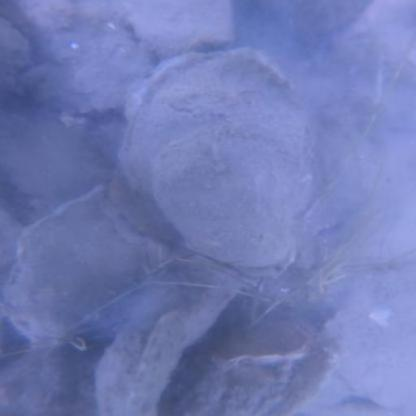3: (118, 41, 306, 210)
Oyster-Closed: (92, 260, 246, 416), (205, 322, 326, 369)
Oyster-Open: (152, 139, 296, 282), (8, 202, 145, 339), (0, 0, 150, 116), (266, 334, 348, 416), (127, 1, 233, 54)
